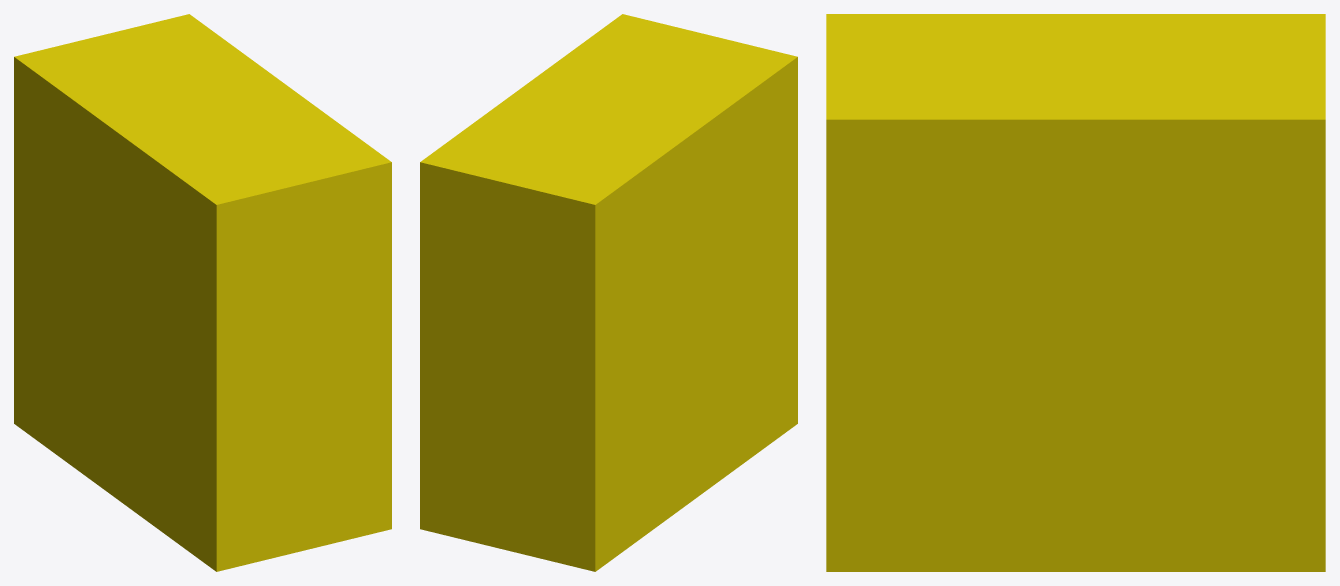
Rendered from tetris-yellow.fbx.
3 renders of one model, left to right at view 1: azimuth 30°, elevation 25°; view 2: azimuth 150°, elevation 25°; view 3: azimuth 270°, elevation 25°, orthographic. The views are drawn at different scales.
Visible parts, largest first — view 1: tetris_yellow; view 2: tetris_yellow; view 3: tetris_yellow.
Boxes of the visible parts, left/top/right/bottom form: tetris_yellow: left=14, top=14, right=391, bottom=571; tetris_yellow: left=420, top=14, right=797, bottom=571; tetris_yellow: left=826, top=14, right=1325, bottom=571.
Size of the model in its own units: 0.5 by 1 by 1.
